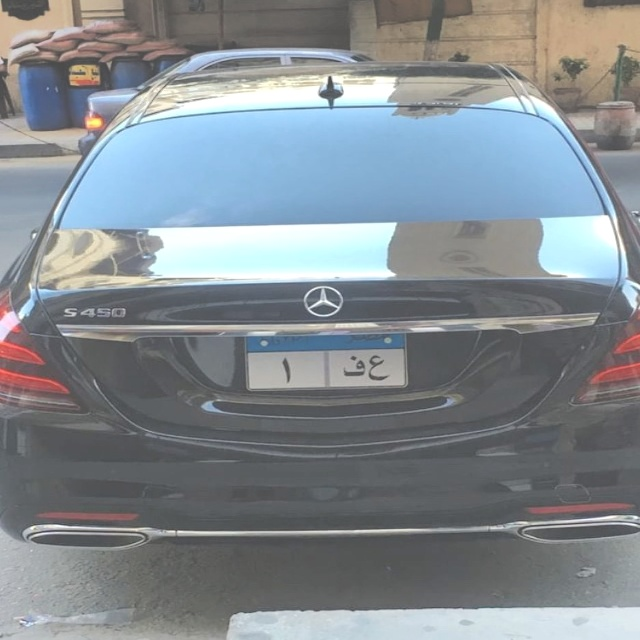License Plate: (241, 331, 411, 394)
